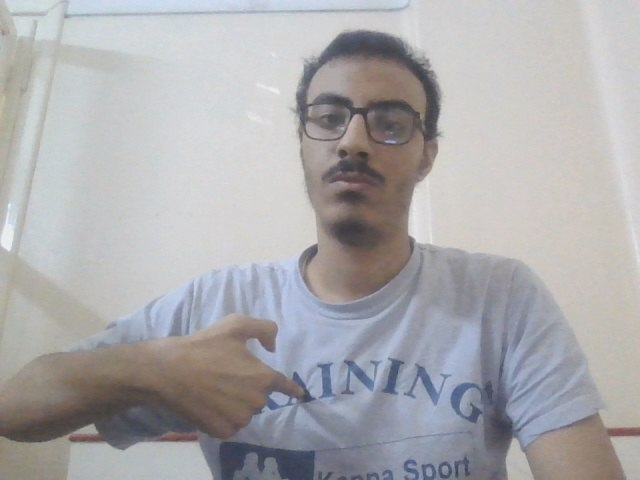Me: (137, 313, 313, 441)
